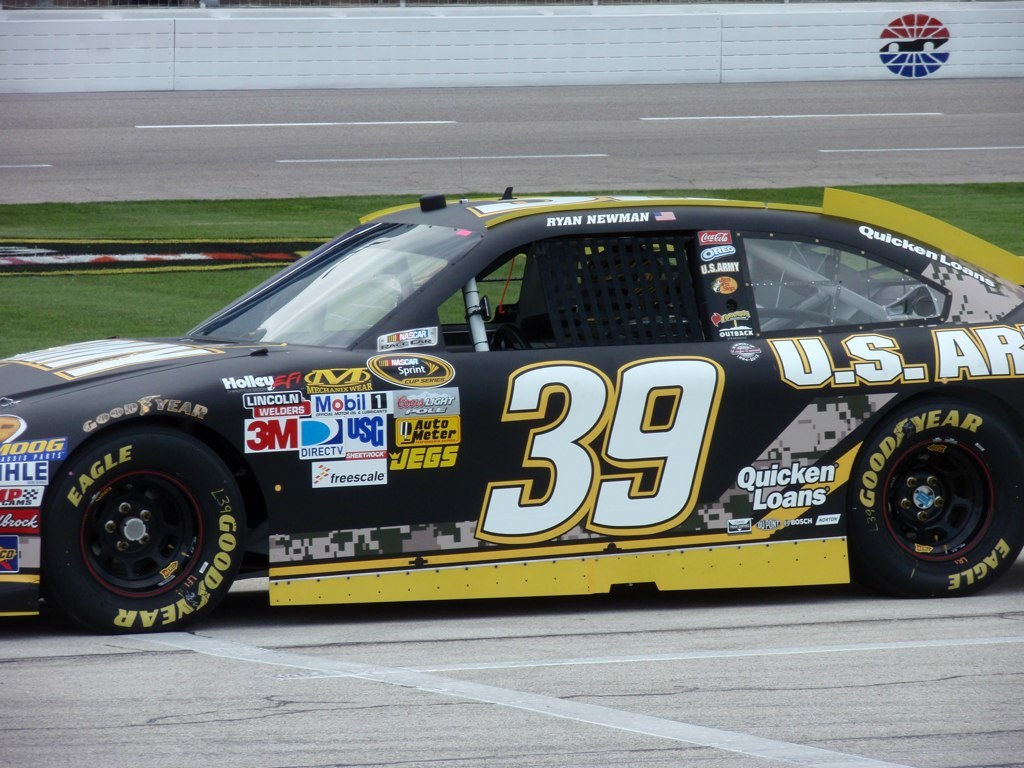Car: (0, 156, 1024, 640)
